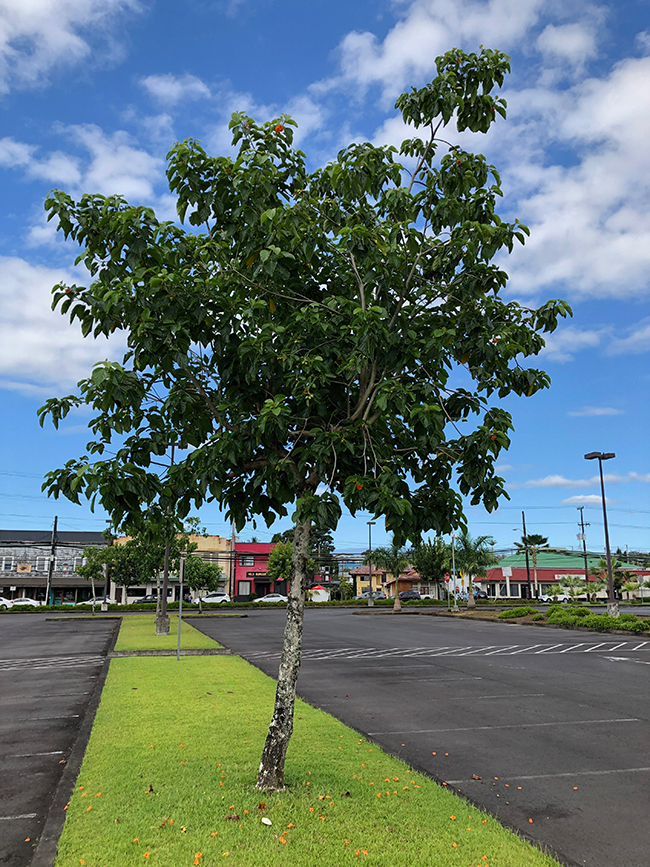tree: (36, 42, 575, 801)
